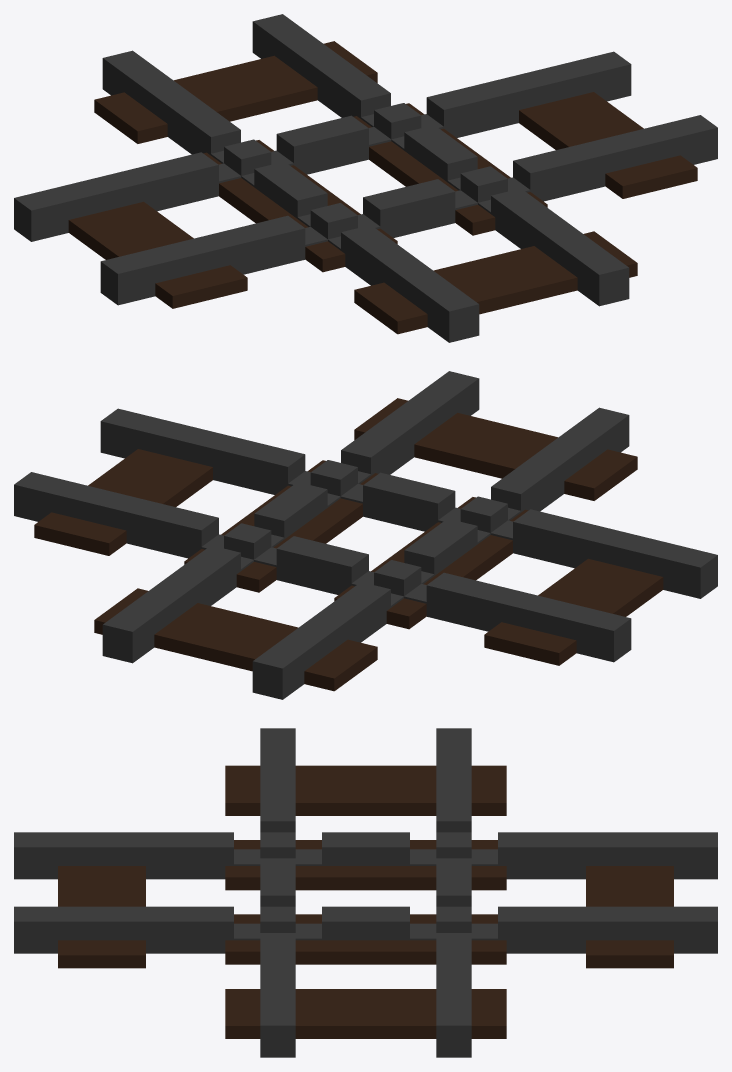
The model's file is Cave_Lair_Rail_Road_Track_Straight_Intersection_01.fbx.
The picture shows the model from 3 angles, top to bottom: view 1: azimuth 30°, elevation 25°; view 2: azimuth 150°, elevation 25°; view 3: azimuth 270°, elevation 25°; orthographic projection.
Parts seen in each view (by area): view 1: Cave_Lair_Rail_Road_Track_Straight_Intersection_01; view 2: Cave_Lair_Rail_Road_Track_Straight_Intersection_01; view 3: Cave_Lair_Rail_Road_Track_Straight_Intersection_01.
Boxes of the visible parts, box(x1,y1,x2,y2) form: Cave_Lair_Rail_Road_Track_Straight_Intersection_01: box(14, 14, 717, 342); Cave_Lair_Rail_Road_Track_Straight_Intersection_01: box(14, 371, 717, 699); Cave_Lair_Rail_Road_Track_Straight_Intersection_01: box(14, 728, 717, 1057).
Size of the model in its own units: 2 by 0.1 by 2.
